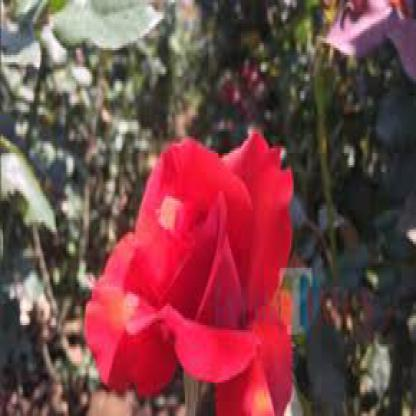Rose-Mawar: (85, 128, 300, 415)
